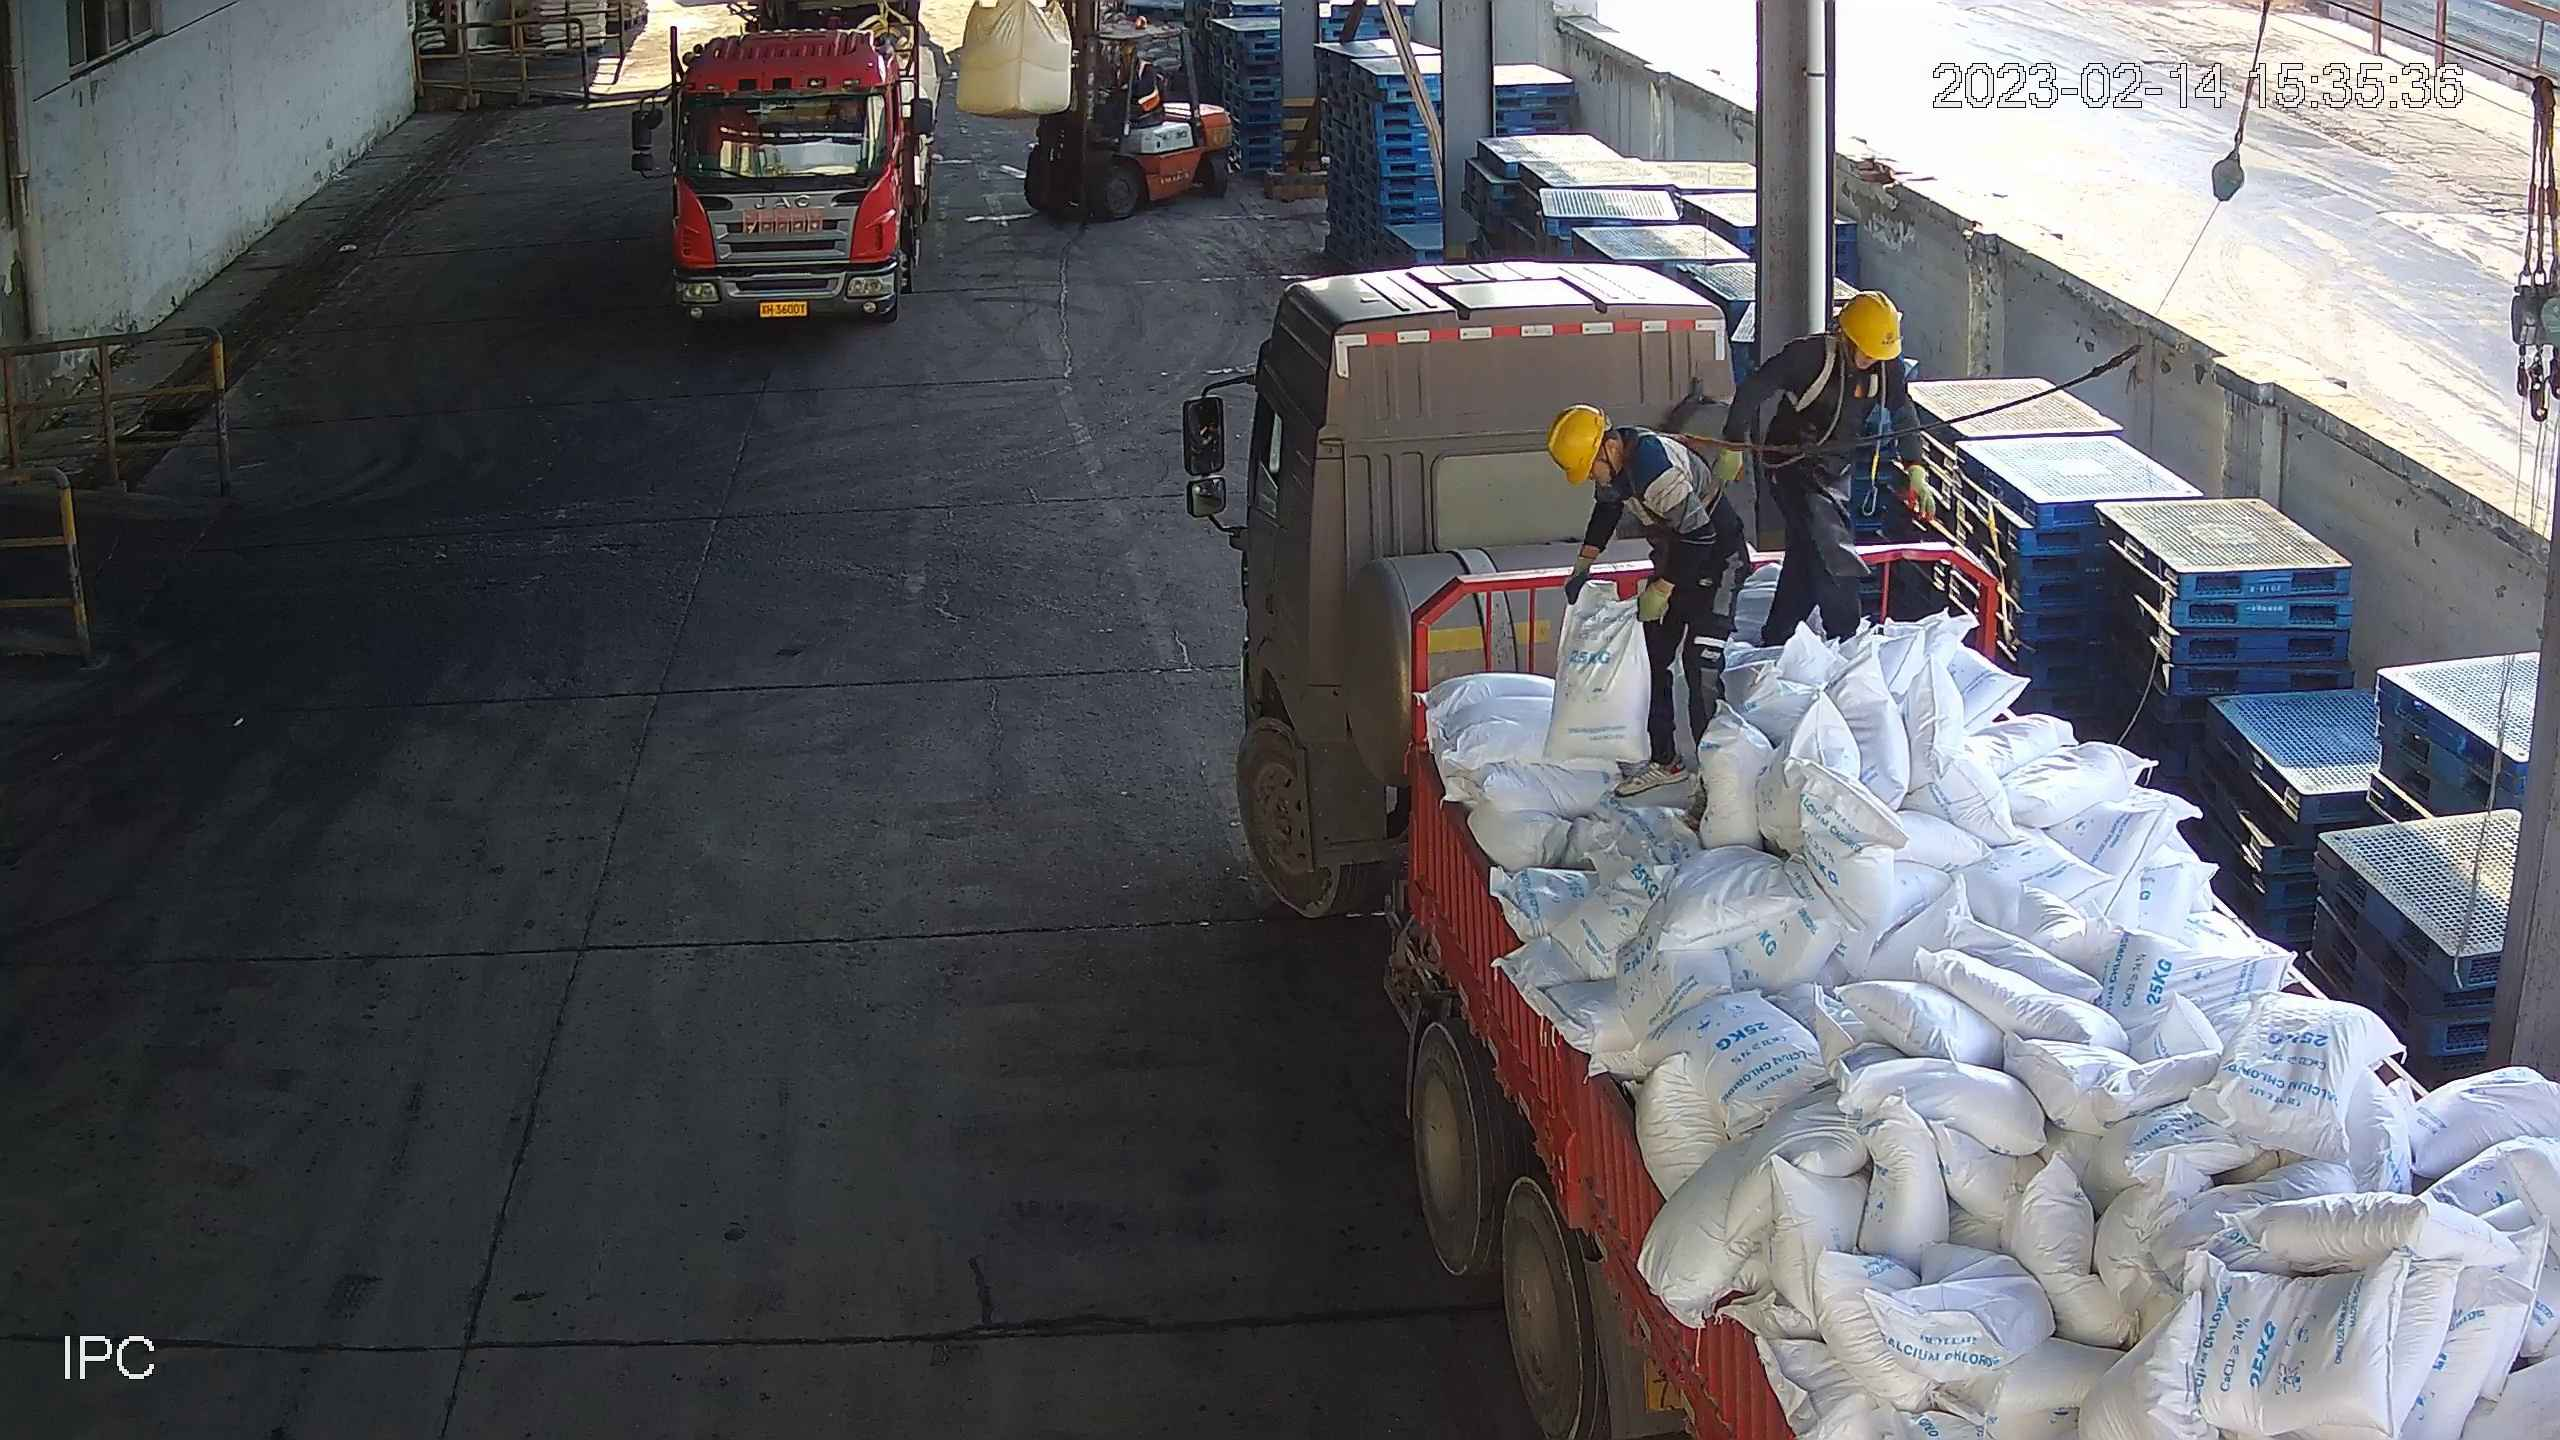belt: (1629, 422, 1729, 525), (1787, 333, 1892, 409)
head: (1778, 293, 1916, 430), (1547, 399, 1690, 526)
helmet: (1834, 289, 1905, 363), (1548, 403, 1608, 486)
people: (1549, 401, 1751, 797), (1716, 292, 1935, 639)
truck: (1181, 260, 2560, 1440), (633, 1, 944, 337)
